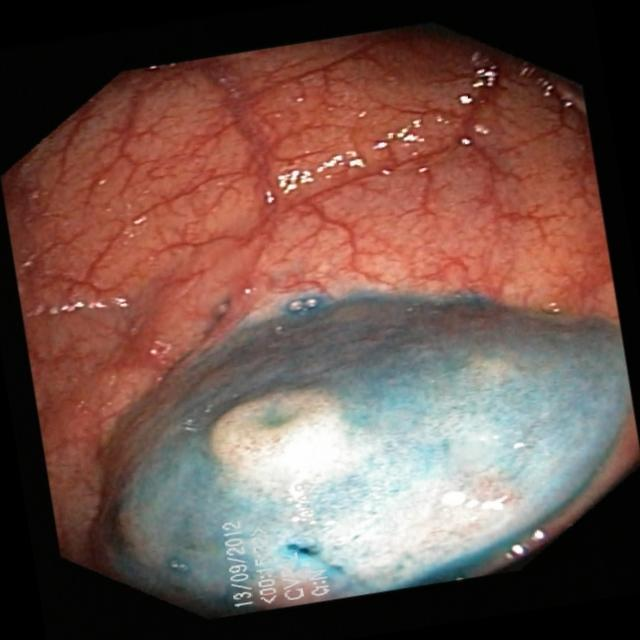dyed-lifted-polyps: (203, 369, 389, 509)
